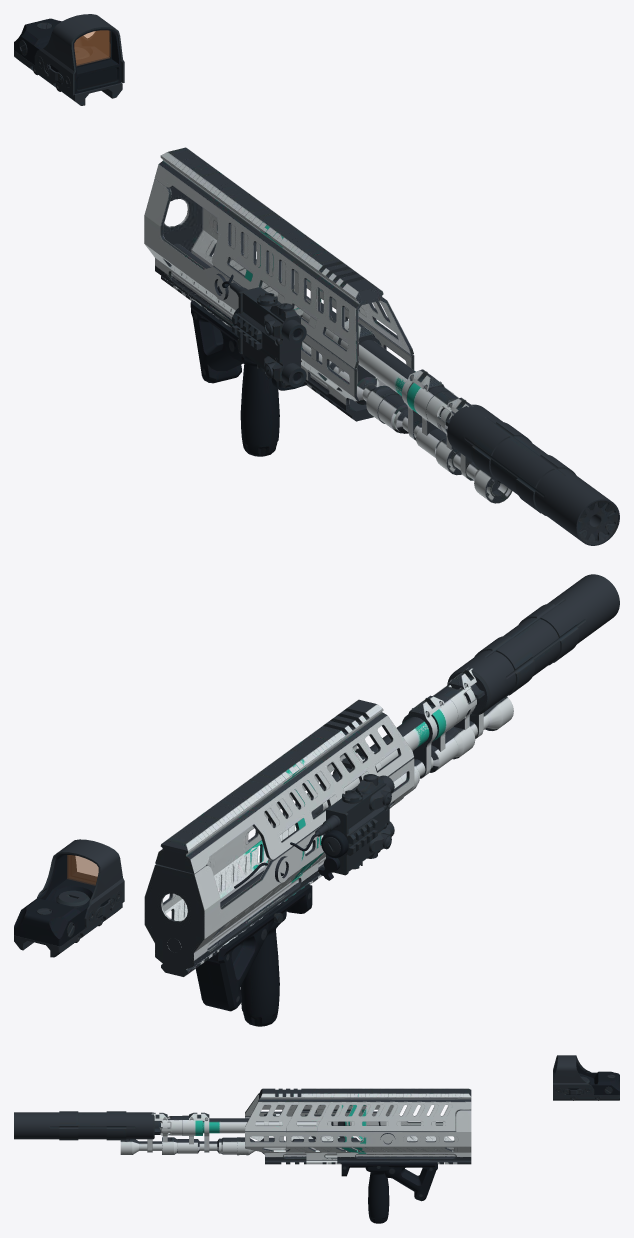
Rendered from LightMachineGun.glb.
The picture shows the model from 3 angles, top to bottom: view 1: azimuth 30°, elevation 25°; view 2: azimuth 150°, elevation 25°; view 3: azimuth 270°, elevation 25°; orthographic projection. The views are drawn at different scales.
Visible parts, largest first — view 1: SM_LightMachineGun_Handguard_Extended, SM_Silencer, SM_LightMachineGun_Handguard_Default, SM_LightMachineGun_Handguard_Short, SM_Scope, SM_Laser, SM_Grip_Vertical, SM_Grip_Angled; view 2: SM_LightMachineGun_Handguard_Extended, SM_LightMachineGun_Handguard_Default, SM_Silencer, SM_Scope, SM_LightMachineGun_Handguard_Short, SM_Laser, SM_Grip_Angled, SM_Grip_Vertical; view 3: SM_LightMachineGun_Handguard_Short, SM_LightMachineGun_Handguard_Extended, SM_LightMachineGun_Handguard_Default, SM_Silencer, SM_Scope, SM_Grip_Angled, SM_Grip_Vertical.
Part boxes in pixels (x1=…): SM_LightMachineGun_Handguard_Extended: x1=144, y1=149, x2=512, y2=503; SM_Silencer: x1=445, y1=404, x2=619, y2=545; SM_LightMachineGun_Handguard_Default: x1=145, y1=156, x2=461, y2=475; SM_LightMachineGun_Handguard_Short: x1=155, y1=147, x2=458, y2=434; SM_Scope: x1=14, y1=14, x2=124, y2=105; SM_Laser: x1=213, y1=266, x2=306, y2=388; SM_Grip_Vertical: x1=234, y1=339, x2=279, y2=456; SM_Grip_Angled: x1=190, y1=300, x2=305, y2=390; SM_LightMachineGun_Handguard_Extended: x1=144, y1=667, x2=513, y2=976; SM_LightMachineGun_Handguard_Default: x1=144, y1=695, x2=475, y2=976; SM_Silencer: x1=447, y1=574, x2=619, y2=715; SM_Scope: x1=14, y1=839, x2=124, y2=957; SM_LightMachineGun_Handguard_Short: x1=155, y1=685, x2=476, y2=956; SM_Laser: x1=234, y1=774, x2=394, y2=888; SM_Grip_Angled: x1=195, y1=884, x2=312, y2=1011; SM_Grip_Vertical: x1=240, y1=901, x2=286, y2=1026; SM_LightMachineGun_Handguard_Short: x1=159, y1=1088, x2=471, y2=1164; SM_LightMachineGun_Handguard_Extended: x1=120, y1=1088, x2=471, y2=1164; SM_LightMachineGun_Handguard_Default: x1=162, y1=1088, x2=471, y2=1164; SM_Silencer: x1=14, y1=1111, x2=160, y2=1140; SM_Scope: x1=553, y1=1055, x2=619, y2=1100; SM_Grip_Angled: x1=341, y1=1162, x2=437, y2=1201; SM_Grip_Vertical: x1=365, y1=1162, x2=389, y2=1223.
Size of the model in its own units: 7.29 by 22.15 by 74.51.
12 materials, 10 textured.
